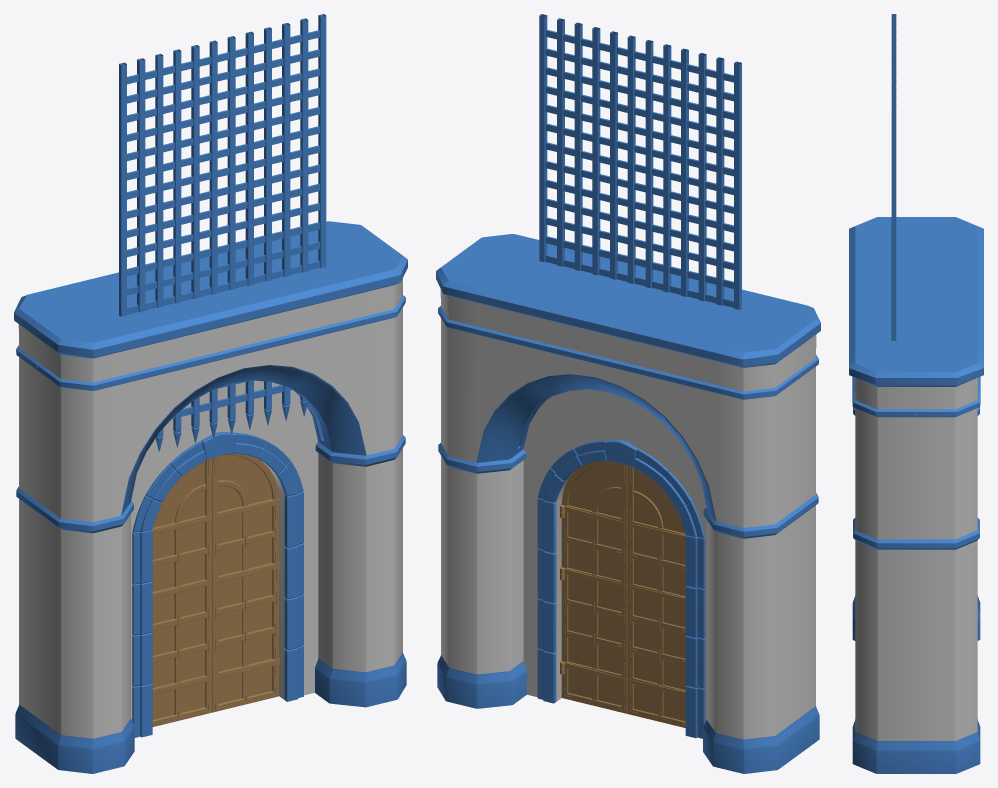
Rendered from dfk_gate_large.fbx.
3 views of the same model, side by side, from view 1: azimuth 30°, elevation 25°; view 2: azimuth 150°, elevation 25°; view 3: azimuth 270°, elevation 25° (orthographic). The views are drawn at different scales.
Parts seen in each view (by area): view 1: GateArch_large, Portcullis, GateArch_small, Gate_02_Export.001, Gate_02_Export; view 2: GateArch_large, Portcullis, GateArch_small, Gate_02_Export.001, Gate_02_Export; view 3: GateArch_large, Portcullis.
Part boxes in pixels (left/top/right/bottom): GateArch_large: left=14, top=221, right=407, bottom=773; Portcullis: left=119, top=14, right=326, bottom=451; GateArch_small: left=131, top=408, right=318, bottom=737; Gate_02_Export.001: left=212, top=453, right=279, bottom=712; Gate_02_Export: left=152, top=458, right=212, bottom=726; GateArch_large: left=436, top=234, right=820, bottom=773; Portcullis: left=539, top=14, right=741, bottom=309; GateArch_small: left=523, top=416, right=706, bottom=738; Gate_02_Export.001: left=560, top=460, right=627, bottom=713; Gate_02_Export: left=627, top=465, right=686, bottom=727; GateArch_large: left=849, top=217, right=983, bottom=773; Portcullis: left=891, top=14, right=896, bottom=340.
Size of the model in its own units: 7.67 by 14.26 by 2.75.
